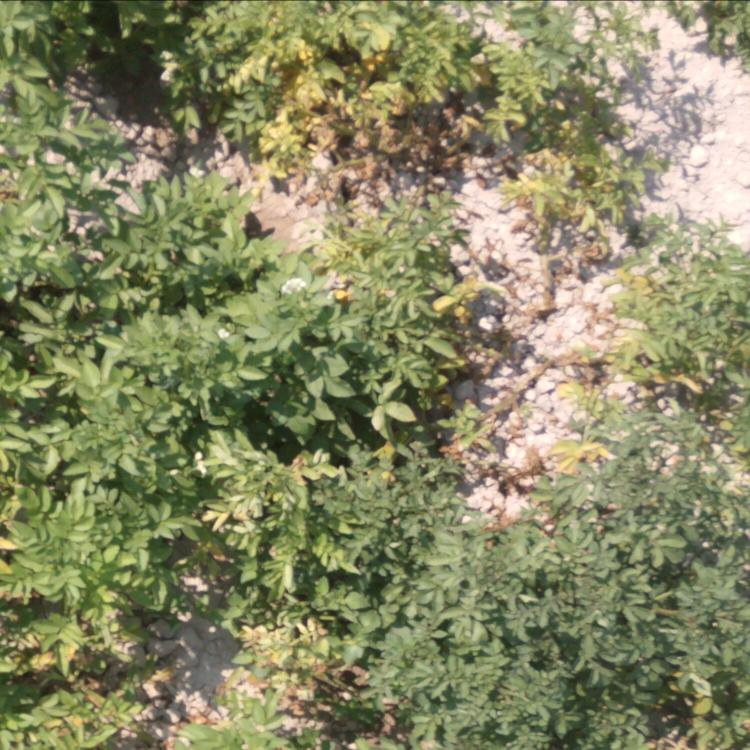healthy: (240, 495, 750, 749), (4, 166, 304, 488), (1, 494, 211, 750), (1, 1, 159, 144)
stressed: (182, 1, 464, 145), (462, 7, 623, 254), (307, 151, 468, 371), (337, 375, 613, 486), (608, 250, 750, 387), (671, 1, 750, 52)
